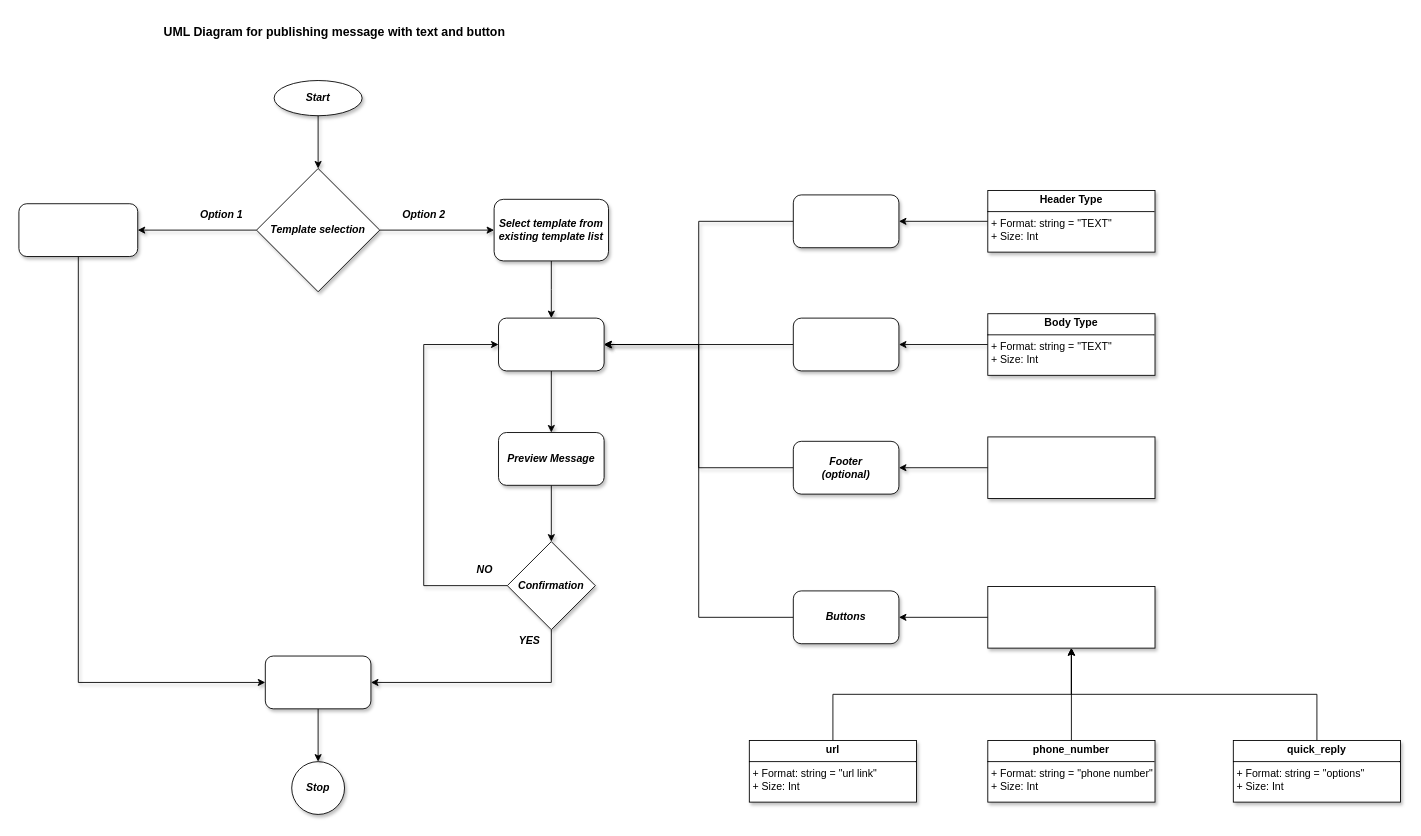
Some shapes in this 1421 by 836 pixel diagram are drawn without their labels. Each missing label, with the centre of its shape:
Body: pixel 846 345
Button Type + Format: string = "TEXT" + Size: Int: pixel 1071 618
Create New Template: pixel 79 231
Footer Type + Format: string = "TEXT" + Size: Int: pixel 1071 469
Header: pixel 846 222
Message: pixel 551 345
send message to user: pixel 318 683
